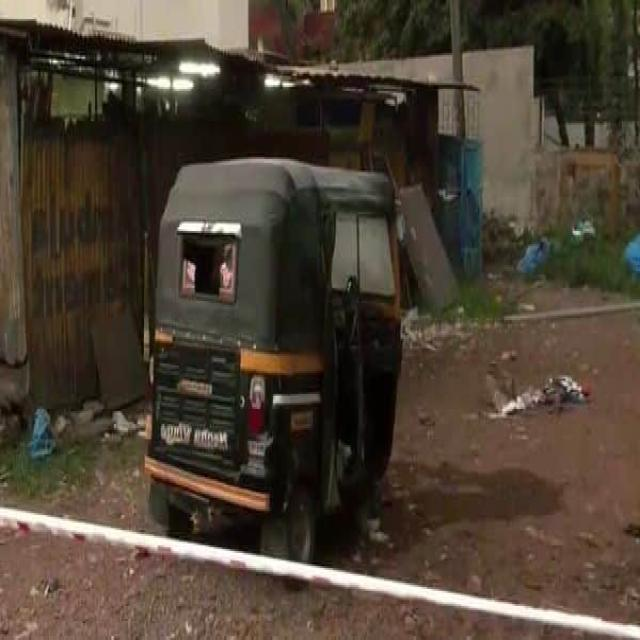autorickshaw: (145, 160, 401, 561)
